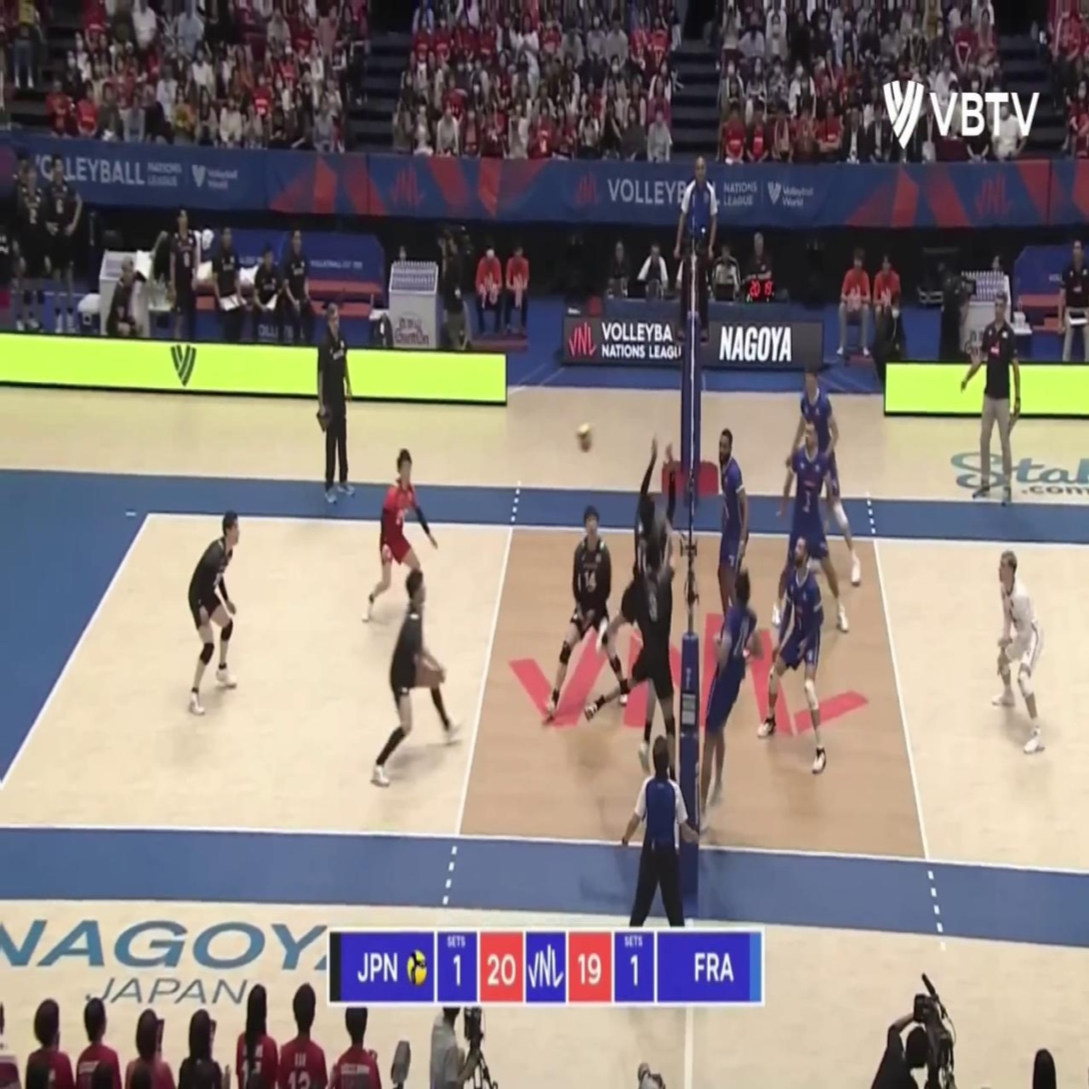ball: (574, 420, 592, 455)
